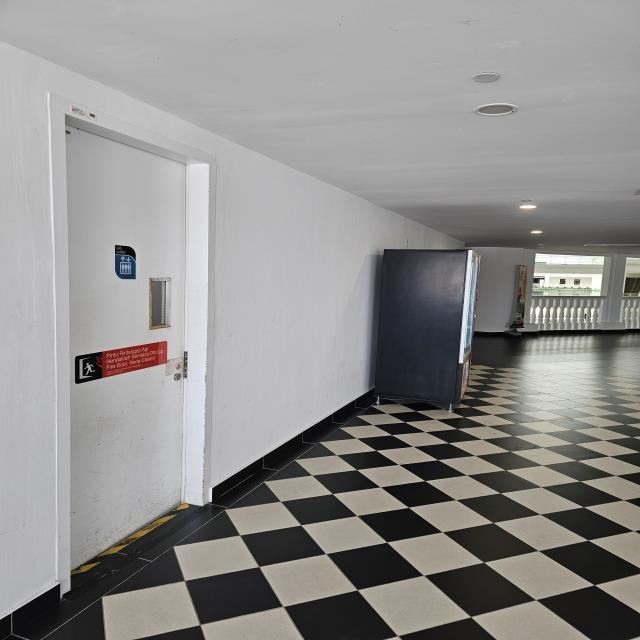footpath: (343, 430, 640, 640)
obstacle: (370, 240, 491, 419)
